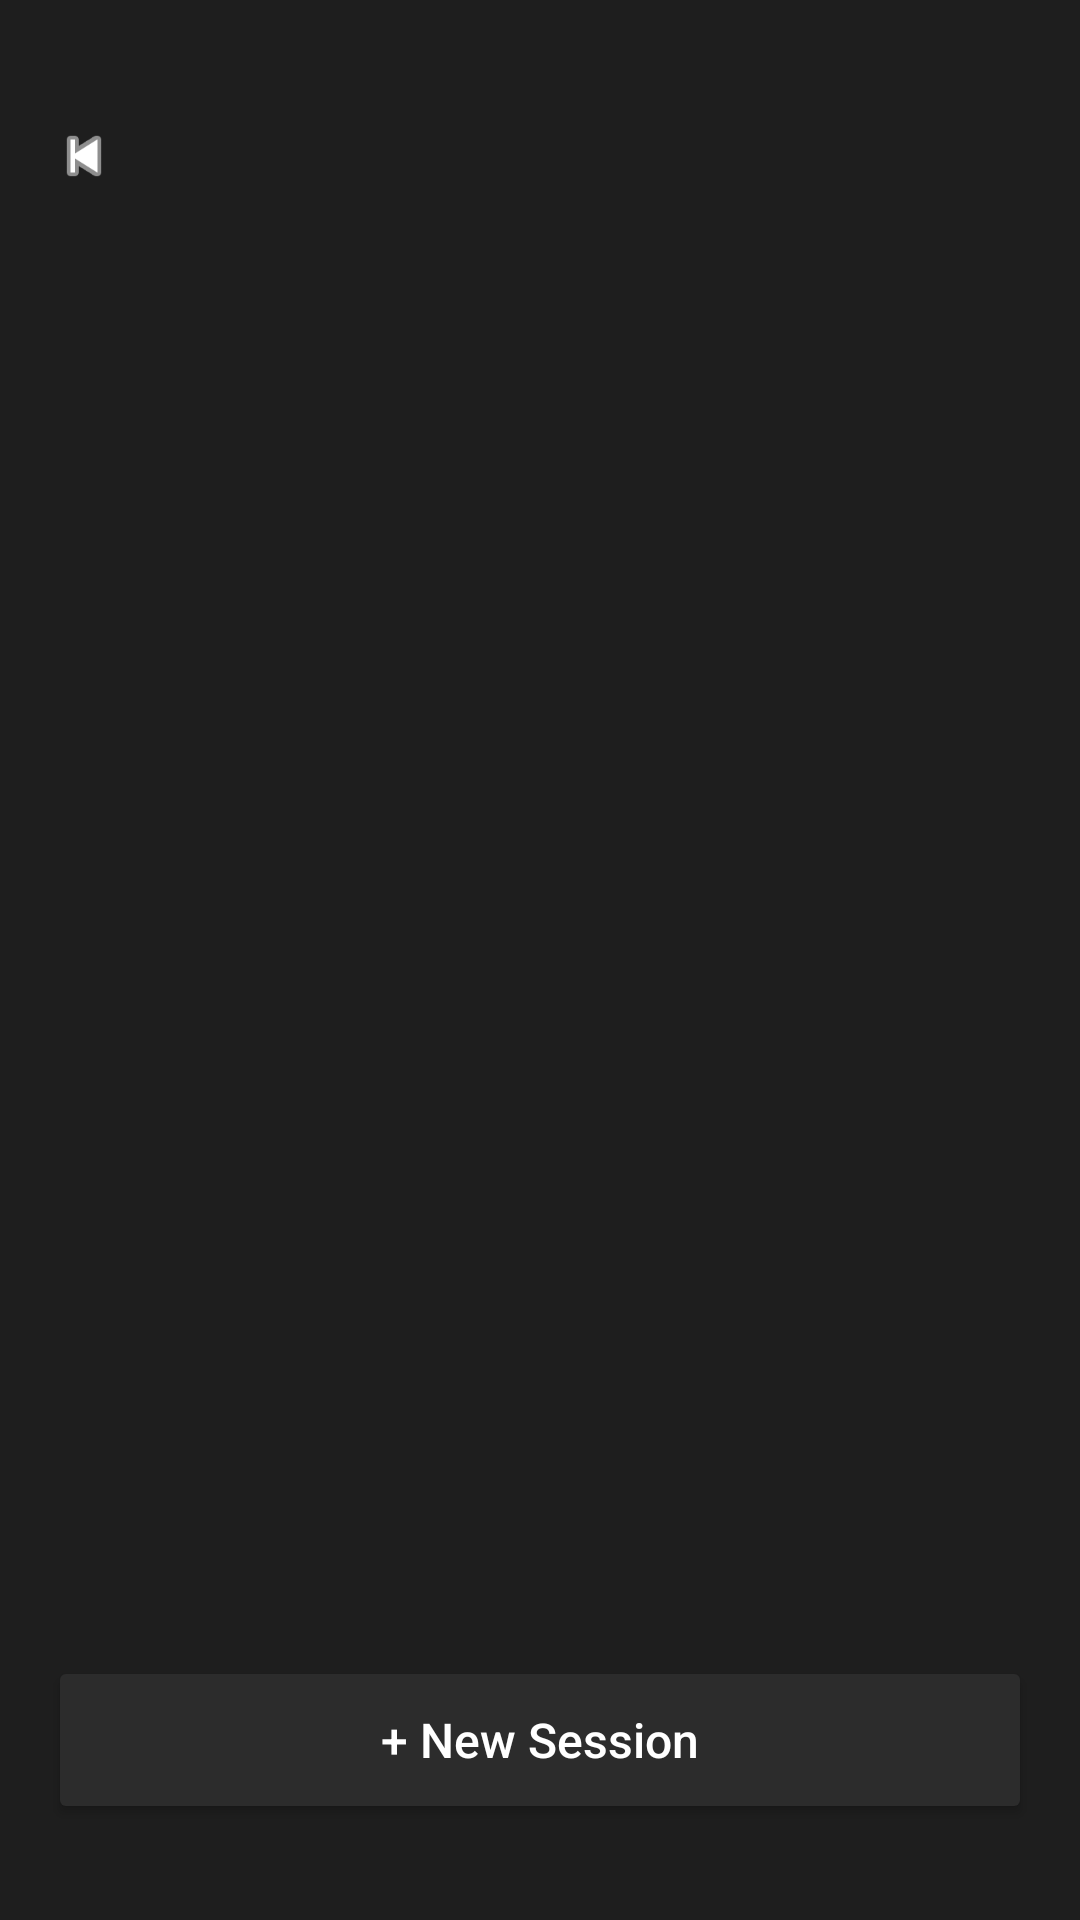

Named icons in this screenshot (1080px x 1920px) and their bounding boxes, bbox=[x1, y1, x2, y2]:
previous: bbox=[67, 136, 101, 176]
